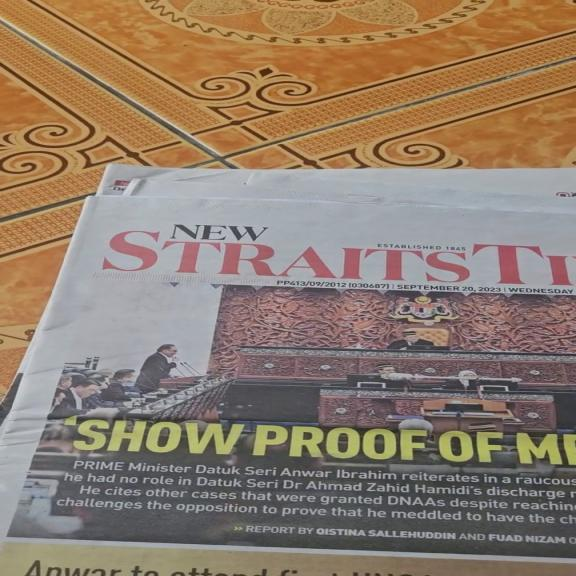Kertas: (105, 172, 567, 562)
